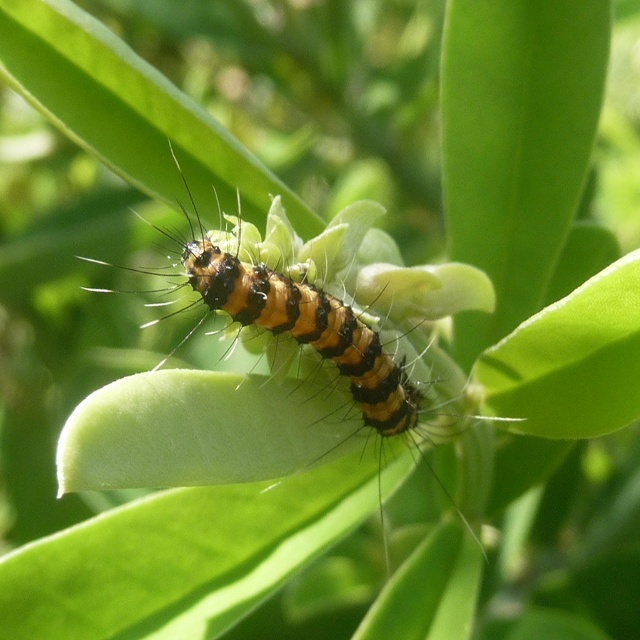Caterpillar: (74, 134, 527, 591)
